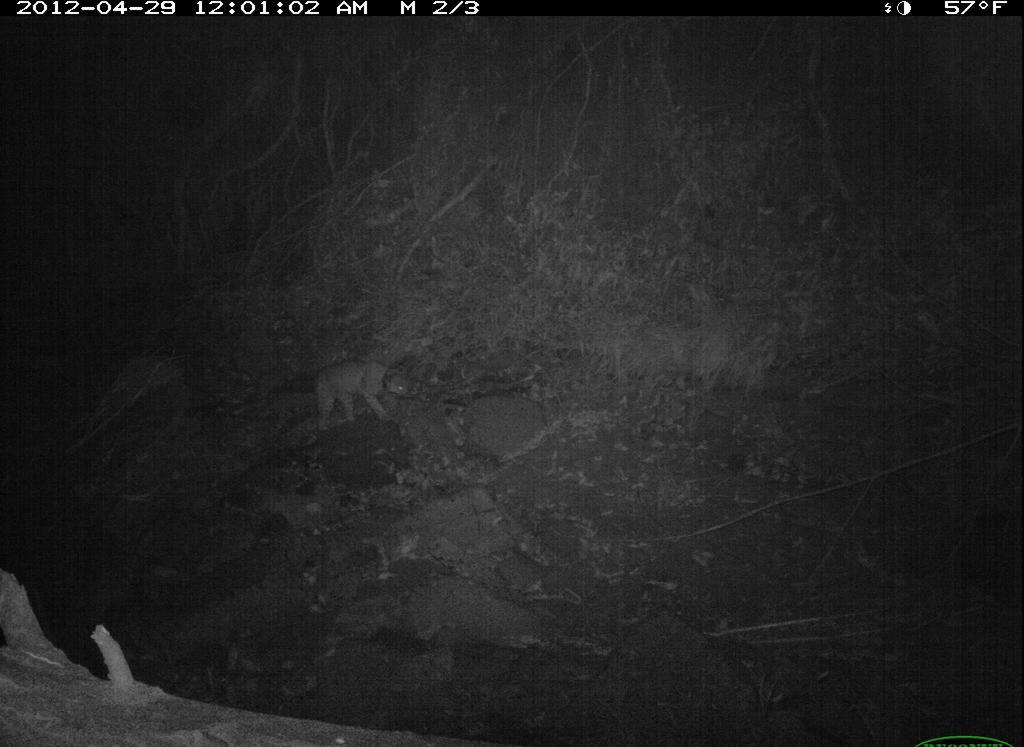bobcat: (260, 355, 420, 441)
